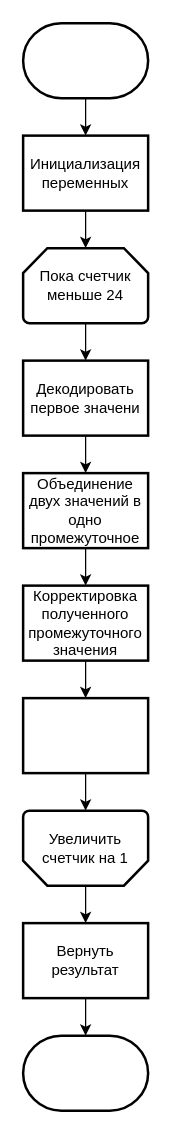
This 170x1133 diagram has some shape labels left out. Here are the shapes that lost their labels. From the top down, the centre of each, then its label:
At (85,60): "Начало".
At (85,735): "Рассчитать и записать результат".
At (85,1072): "Конец".
